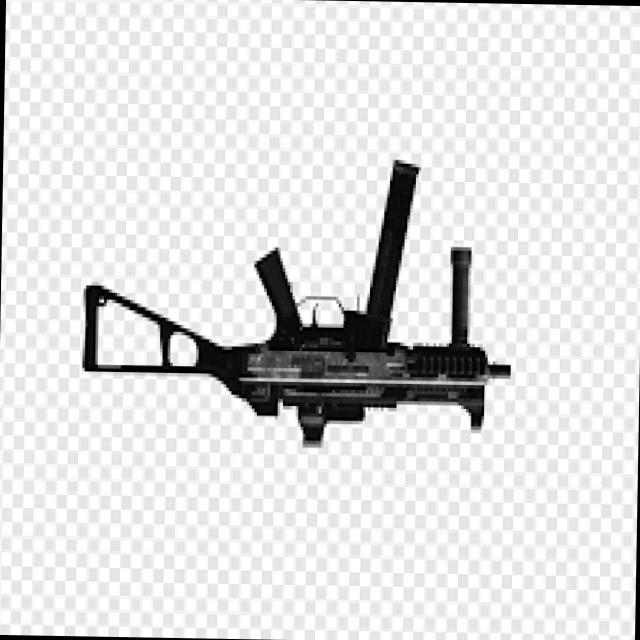Gun: (67, 150, 540, 488)
